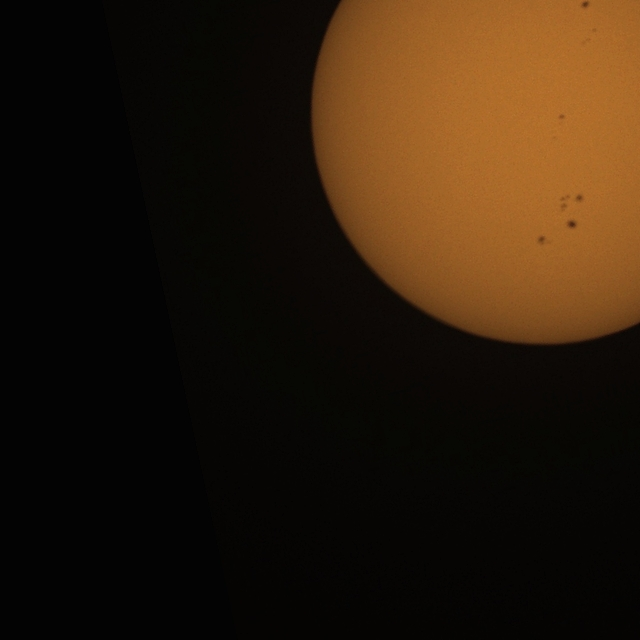sunspot: (558, 193, 583, 217), (581, 29, 597, 45), (566, 218, 578, 230), (537, 235, 550, 246), (580, 0, 590, 10), (580, 36, 591, 45), (558, 113, 565, 121)
